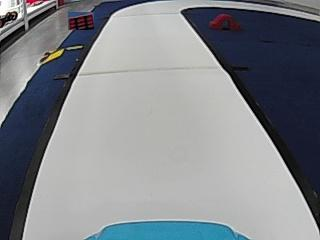bridge: (209, 13, 240, 29)
